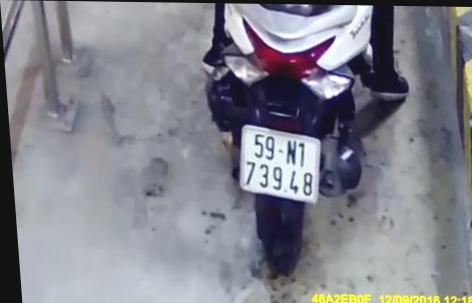License_Plate: (232, 122, 327, 210)
